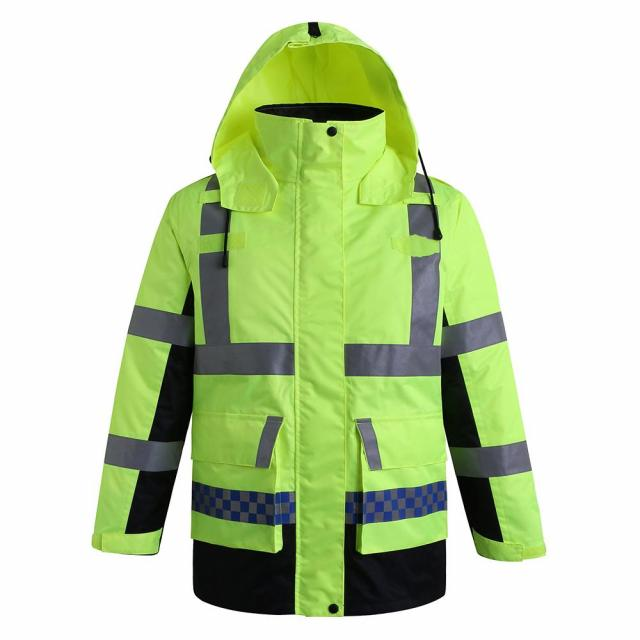Reflective-Jacket: (84, 21, 577, 636)
